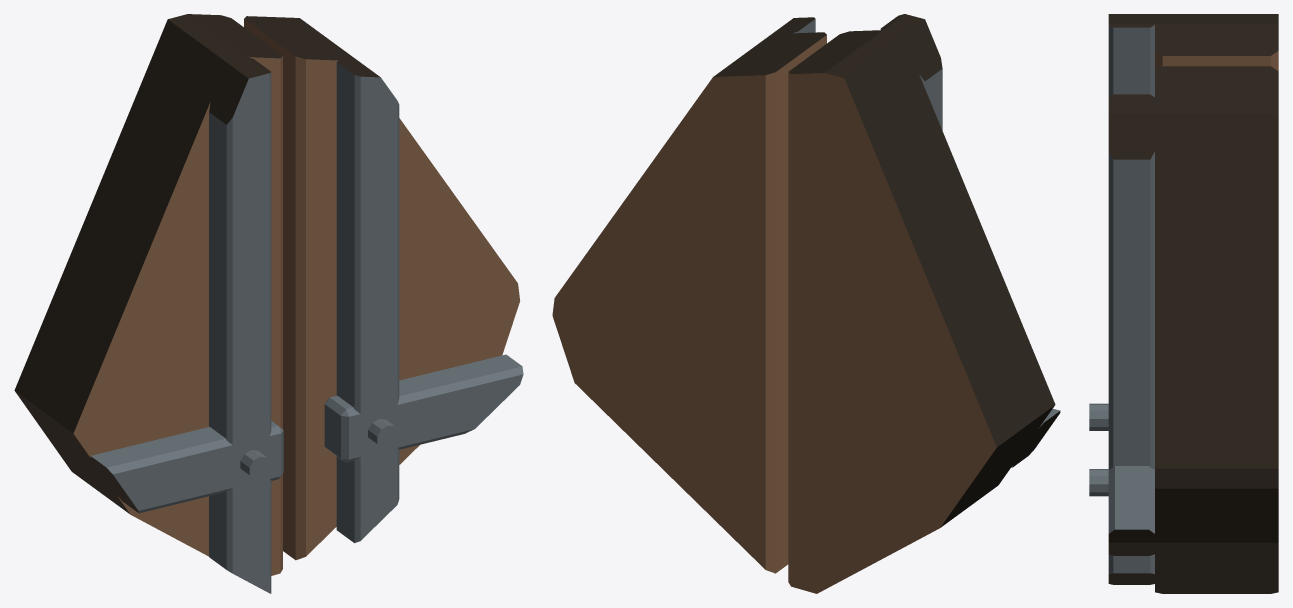
Rendered from SM_DoorShard_03_08.fbx.
3 renders of one model, left to right at view 1: azimuth 30°, elevation 25°; view 2: azimuth 150°, elevation 25°; view 3: azimuth 270°, elevation 25°, orthographic. The views are drawn at different scales.
Parts seen in each view (by area): view 1: SM_DoorShard_03_08; view 2: SM_DoorShard_03_08; view 3: SM_DoorShard_03_08.
Part boxes in pixels (bbox=[...]): SM_DoorShard_03_08: bbox=[14, 14, 523, 593]; SM_DoorShard_03_08: bbox=[552, 14, 1060, 593]; SM_DoorShard_03_08: bbox=[1089, 14, 1278, 593].
Bounding box in the file's own units: 69.97 × 24.5 × 78.65.
